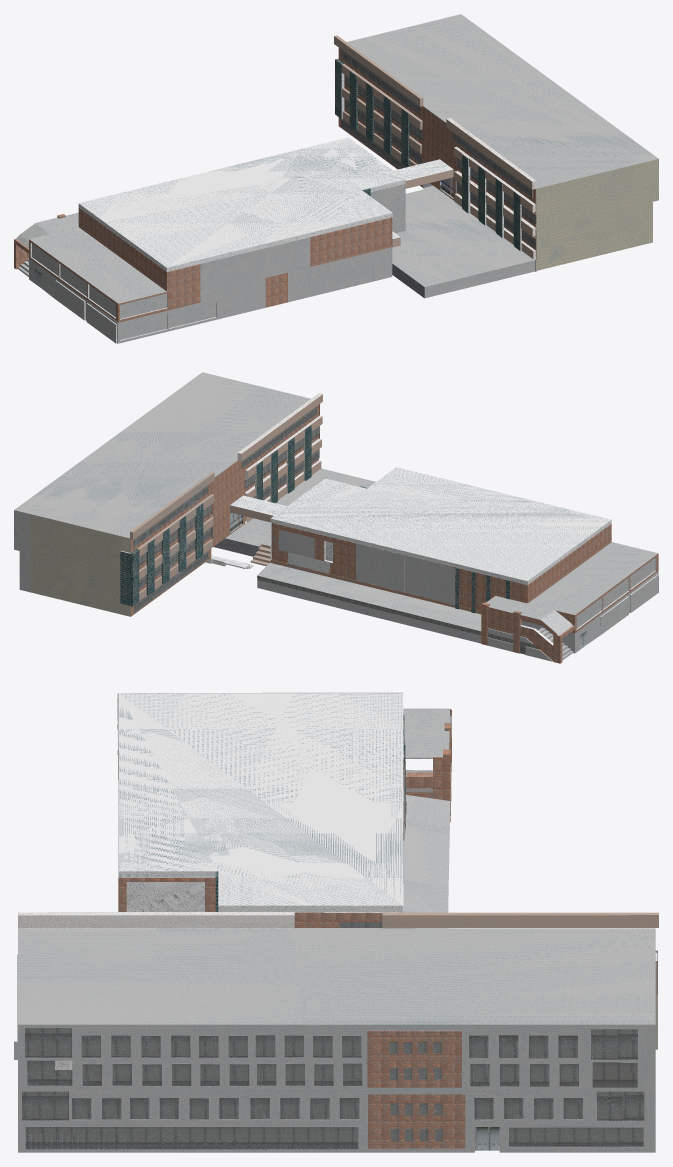
File: refectory3.dae
3 renders of one model, top to bottom at view 1: azimuth 30°, elevation 25°; view 2: azimuth 150°, elevation 25°; view 3: azimuth 270°, elevation 25°, orthographic. The views are drawn at different scales.
Visible parts, largest first — view 1: SketchUp (×37); view 2: SketchUp (×38); view 3: SketchUp (×22).
Part boxes in pixels (x1,y1,x2,y2): SketchUp (×37): (14,14,658,343); SketchUp (×38): (14,372,658,663); SketchUp (×22): (18,693,658,1152).
Bounding box in the file's own units: 2543 × 1719 × 457.
